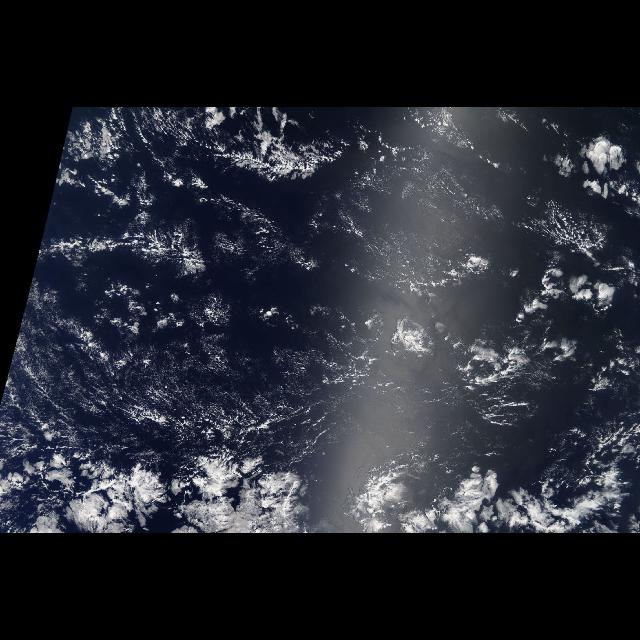Fish: (396, 262, 630, 408), (138, 112, 360, 195), (40, 214, 228, 278)
Sugar: (16, 292, 640, 454), (341, 118, 639, 290)
